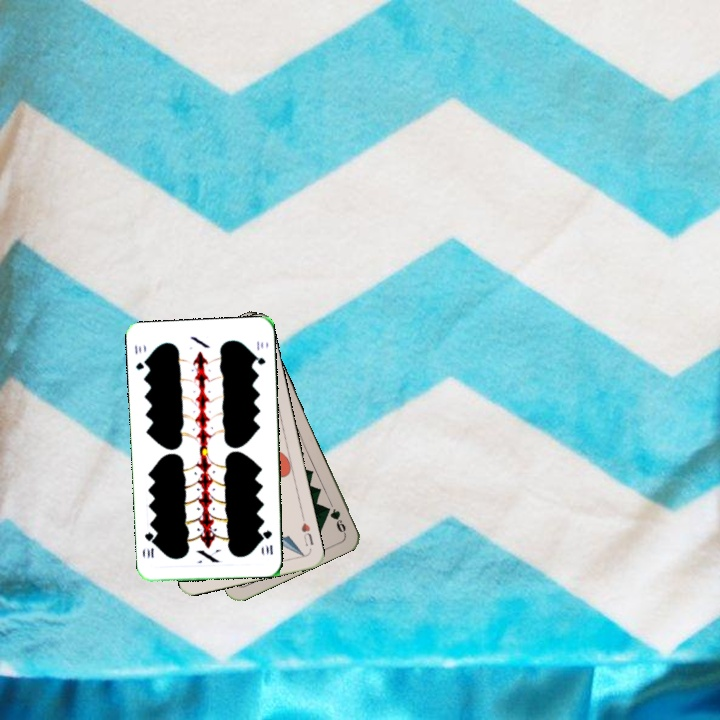G10: (131, 340, 150, 372), (259, 526, 275, 557)
G9: (326, 498, 348, 536)
HU: (297, 518, 316, 548)
